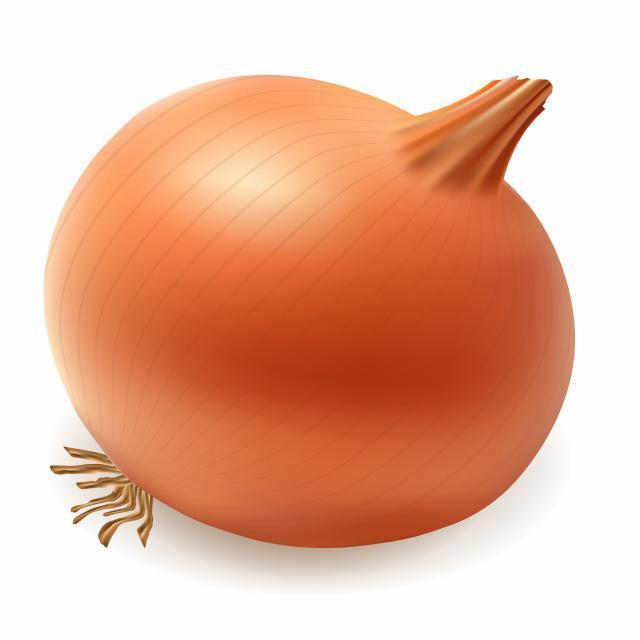onion: (42, 77, 580, 558)
